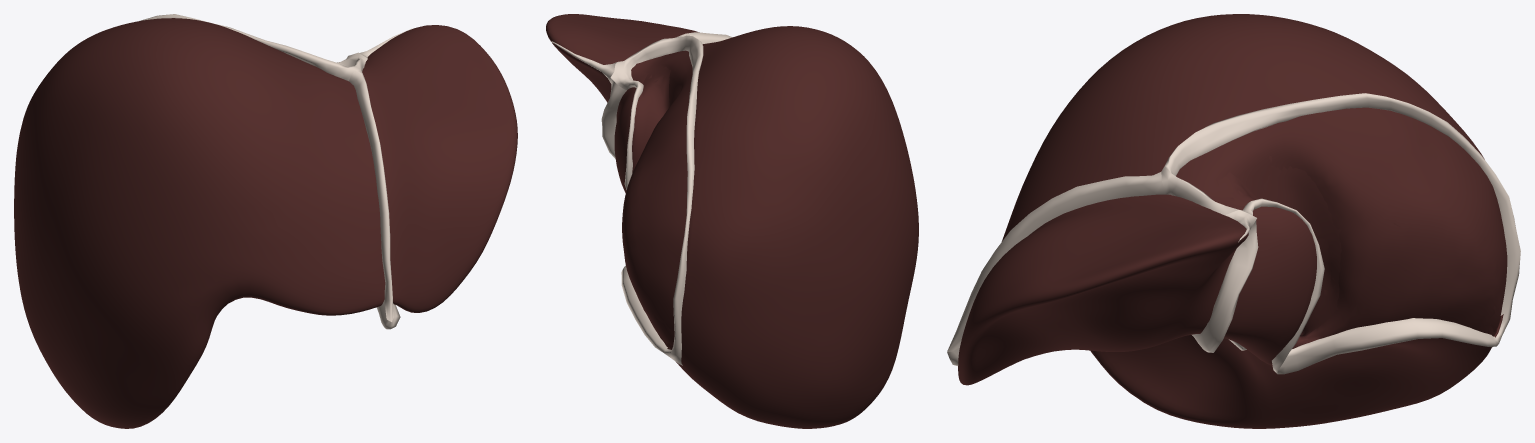
Rendered from hra-liver-male-v1.glb.
The picture shows the model from 3 angles, left to right: view 1: azimuth 30°, elevation 25°; view 2: azimuth 150°, elevation 25°; view 3: azimuth 270°, elevation 25°; orthographic projection. The views are drawn at different scales.
Visible parts, largest first — view 1: VH_M_liver_capsule, VH_M_falciform_ligament, VH_M_coronary_ligament_of_liver; view 2: VH_M_liver_capsule, VH_M_bare_area_of_liver, VH_M_coronary_ligament_of_liver, VH_M_caudate_lobe_of_liver, VH_M_ligamentum_venosum, VH_M_right_posterosuperior_segment, VH_M_diaphragmatic_surface, VH_M_triangular_ligament_of_liver, VH_M_right_posteroinferior_segment; view 3: VH_M_liver_capsule, VH_M_bare_area_of_liver, VH_M_coronary_ligament_of_liver, VH_M_falciform_ligament, VH_M_caudate_lobe_of_liver, VH_M_diaphragmatic_surface, VH_M_ligamentum_venosum, VH_M_right_posterosuperior_segment.
Boxes of the visible parts, x1,y1,x2,y2 form: VH_M_liver_capsule: (14, 18, 517, 428); VH_M_falciform_ligament: (349, 70, 393, 321); VH_M_coronary_ligament_of_liver: (140, 14, 367, 81); VH_M_liver_capsule: (546, 14, 918, 428); VH_M_bare_area_of_liver: (622, 50, 692, 347); VH_M_coronary_ligament_of_liver: (610, 35, 703, 365); VH_M_caudate_lobe_of_liver: (632, 54, 688, 159); VH_M_ligamentum_venosum: (601, 78, 626, 158); VH_M_right_posterosuperior_segment: (627, 118, 687, 311); VH_M_diaphragmatic_surface: (632, 74, 669, 341); VH_M_triangular_ligament_of_liver: (551, 41, 616, 82); VH_M_right_posteroinferior_segment: (644, 310, 674, 345); VH_M_liver_capsule: (958, 14, 1503, 428); VH_M_bare_area_of_liver: (1176, 107, 1507, 344); VH_M_coronary_ligament_of_liver: (1161, 93, 1520, 374); VH_M_falciform_ligament: (947, 172, 1165, 351); VH_M_caudate_lobe_of_liver: (1190, 151, 1341, 348); VH_M_diaphragmatic_surface: (1225, 162, 1495, 345); VH_M_ligamentum_venosum: (1192, 220, 1258, 352); VH_M_right_posterosuperior_segment: (1339, 107, 1499, 309).
Bounding box in the file's own units: 0.1914 × 0.1746 × 0.2018.
